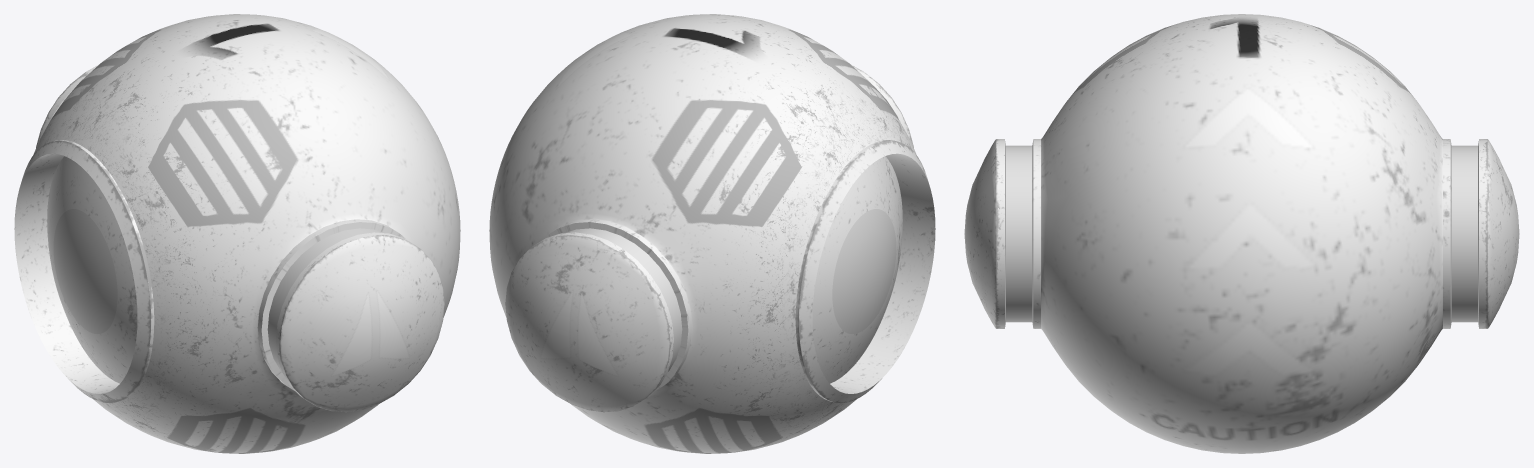
File: dronesatis.fbx
The picture shows the model from 3 angles, left to right: view 1: azimuth 30°, elevation 25°; view 2: azimuth 150°, elevation 25°; view 3: azimuth 270°, elevation 25°; orthographic projection.
Parts seen in each view (by area): view 1: Sphere.004; view 2: Sphere.004; view 3: Sphere.004.
Boxes of the visible parts, <box> form: Sphere.004: <box>14,14,460,453</box>; Sphere.004: <box>489,14,935,453</box>; Sphere.004: <box>964,14,1519,453</box>.
Size of the model in its own units: 185 by 197 by 249.
